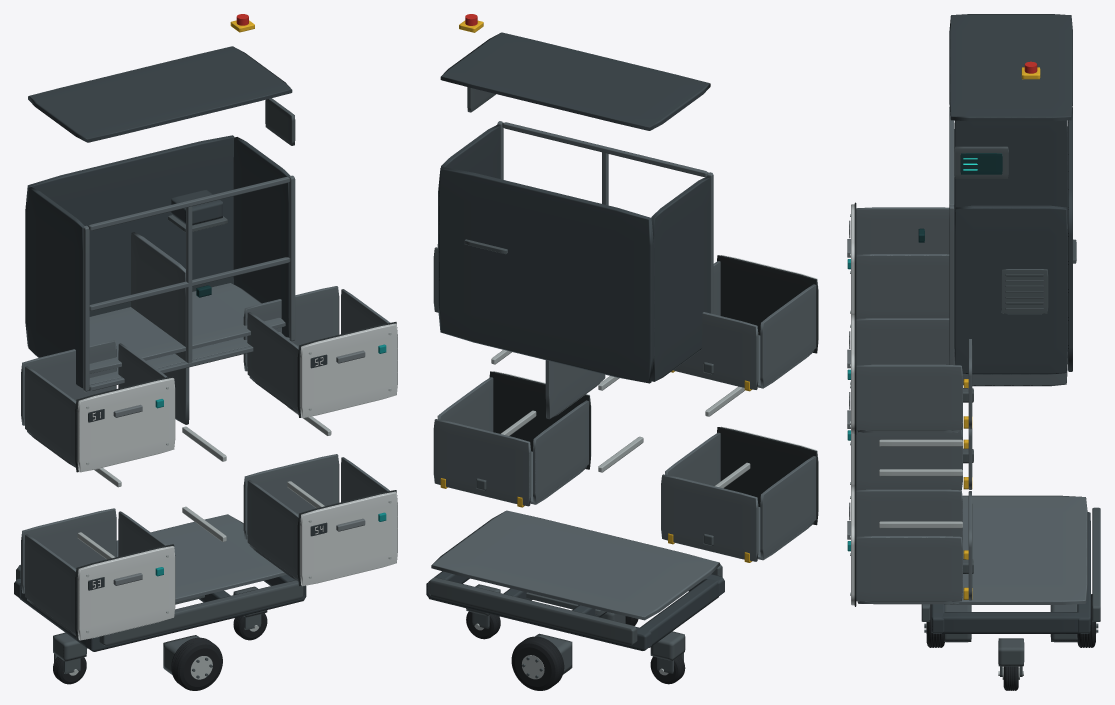
File: robot_agv_eclate.glb
3 renders of one model, left to right at view 1: azimuth 30°, elevation 25°; view 2: azimuth 150°, elevation 25°; view 3: azimuth 270°, elevation 25°, orthographic. The views are drawn at different scales.
Parts seen in each view (by area): view 1: AGV_paroi_arriere, AGV_toit_coffre, AGV_paroi_laterale_-0.49, AGV_paroi_laterale_0.49, AGV_S3_facade, AGV_S1_facade, AGV_S2_facade, AGV_S4_facade, AGV_separateur_horizontal, AGV_plaque_superieure_chassis, AGV_separateur_vertical, AGV_S4_fond_arriere (+24 smaller); view 2: AGV_paroi_arriere, AGV_plaque_superieure_chassis, AGV_toit_coffre, AGV_paroi_laterale_-0.49, AGV_S4_fond_arriere, AGV_S3_fond_arriere, AGV_S1_joint_peripherique, AGV_pare_chocs_arriere, AGV_S3_joint_peripherique, AGV_S1_fond_arriere, AGV_S3_flanc_gauche, AGV_S1_flanc_gauche (+11 smaller); view 3: AGV_paroi_laterale_0.49, AGV_plaque_superieure_chassis, AGV_toit_coffre, AGV_paroi_laterale_-0.49, AGV_S2_flanc_droite, AGV_S4_flanc_droite, AGV_S1_flanc_droite, AGV_S3_flanc_droite, AGV_S4_flanc_gauche, AGV_S2_flanc_gauche, AGV_S1_flanc_gauche, AGV_traverse_chassis_4 (+21 smaller).
Part boxes in pixels (x1=…): AGV_paroi_arriere: x1=25, y1=135, x2=234, y2=346; AGV_toit_coffre: x1=28, y1=46, x2=292, y2=142; AGV_paroi_laterale_-0.49: x1=28, y1=187, x2=84, y2=388; AGV_paroi_laterale_0.49: x1=233, y1=137, x2=290, y2=337; AGV_S3_facade: x1=77, y1=546, x2=175, y2=640; AGV_S1_facade: x1=77, y1=378, x2=175, y2=472; AGV_S2_facade: x1=300, y1=323, x2=397, y2=417; AGV_S4_facade: x1=300, y1=491, x2=397, y2=586; AGV_separateur_horizontal: x1=89, y1=283, x2=285, y2=373; AGV_plaque_superieure_chassis: x1=19, y1=514, x2=286, y2=602; AGV_separateur_vertical: x1=131, y1=232, x2=189, y2=424; AGV_S4_fond_arriere: x1=243, y1=454, x2=339, y2=539; AGV_paroi_arriere: x1=438, y1=167, x2=653, y2=383; AGV_plaque_superieure_chassis: x1=431, y1=510, x2=719, y2=620; AGV_toit_coffre: x1=440, y1=32, x2=710, y2=130; AGV_paroi_laterale_-0.49: x1=651, y1=176, x2=710, y2=381; AGV_S4_fond_arriere: x1=433, y1=419, x2=531, y2=506; AGV_S3_fond_arriere: x1=661, y1=474, x2=758, y2=561; AGV_S1_joint_peripherique: x1=717, y1=255, x2=818, y2=353; AGV_pare_chocs_arriere: x1=428, y1=577, x2=637, y2=645; AGV_S3_joint_peripherique: x1=717, y1=427, x2=818, y2=525; AGV_S1_fond_arriere: x1=673, y1=312, x2=758, y2=389; AGV_S3_flanc_gauche: x1=760, y1=456, x2=816, y2=558; AGV_S1_flanc_gauche: x1=760, y1=284, x2=816, y2=386; AGV_paroi_laterale_0.49: x1=954, y1=205, x2=1067, y2=374; AGV_plaque_superieure_chassis: x1=944, y1=495, x2=1087, y2=604; AGV_toit_coffre: x1=949, y1=14, x2=1072, y2=121; AGV_paroi_laterale_-0.49: x1=954, y1=120, x2=1067, y2=230; AGV_S2_flanc_droite: x1=856, y1=364, x2=962, y2=430; AGV_S4_flanc_droite: x1=856, y1=536, x2=962, y2=601; AGV_S1_flanc_droite: x1=856, y1=254, x2=949, y2=318; AGV_S3_flanc_droite: x1=856, y1=429, x2=962, y2=490; AGV_S4_flanc_gauche: x1=856, y1=489, x2=962, y2=544; AGV_S2_flanc_gauche: x1=856, y1=318, x2=954, y2=365; AGV_S1_flanc_gauche: x1=856, y1=207, x2=949, y2=254; AGV_traverse_chassis_4: x1=941, y1=612, x2=1080, y2=633.
Bounding box in the file's own units: 1.53 × 2.8 × 1.03.
